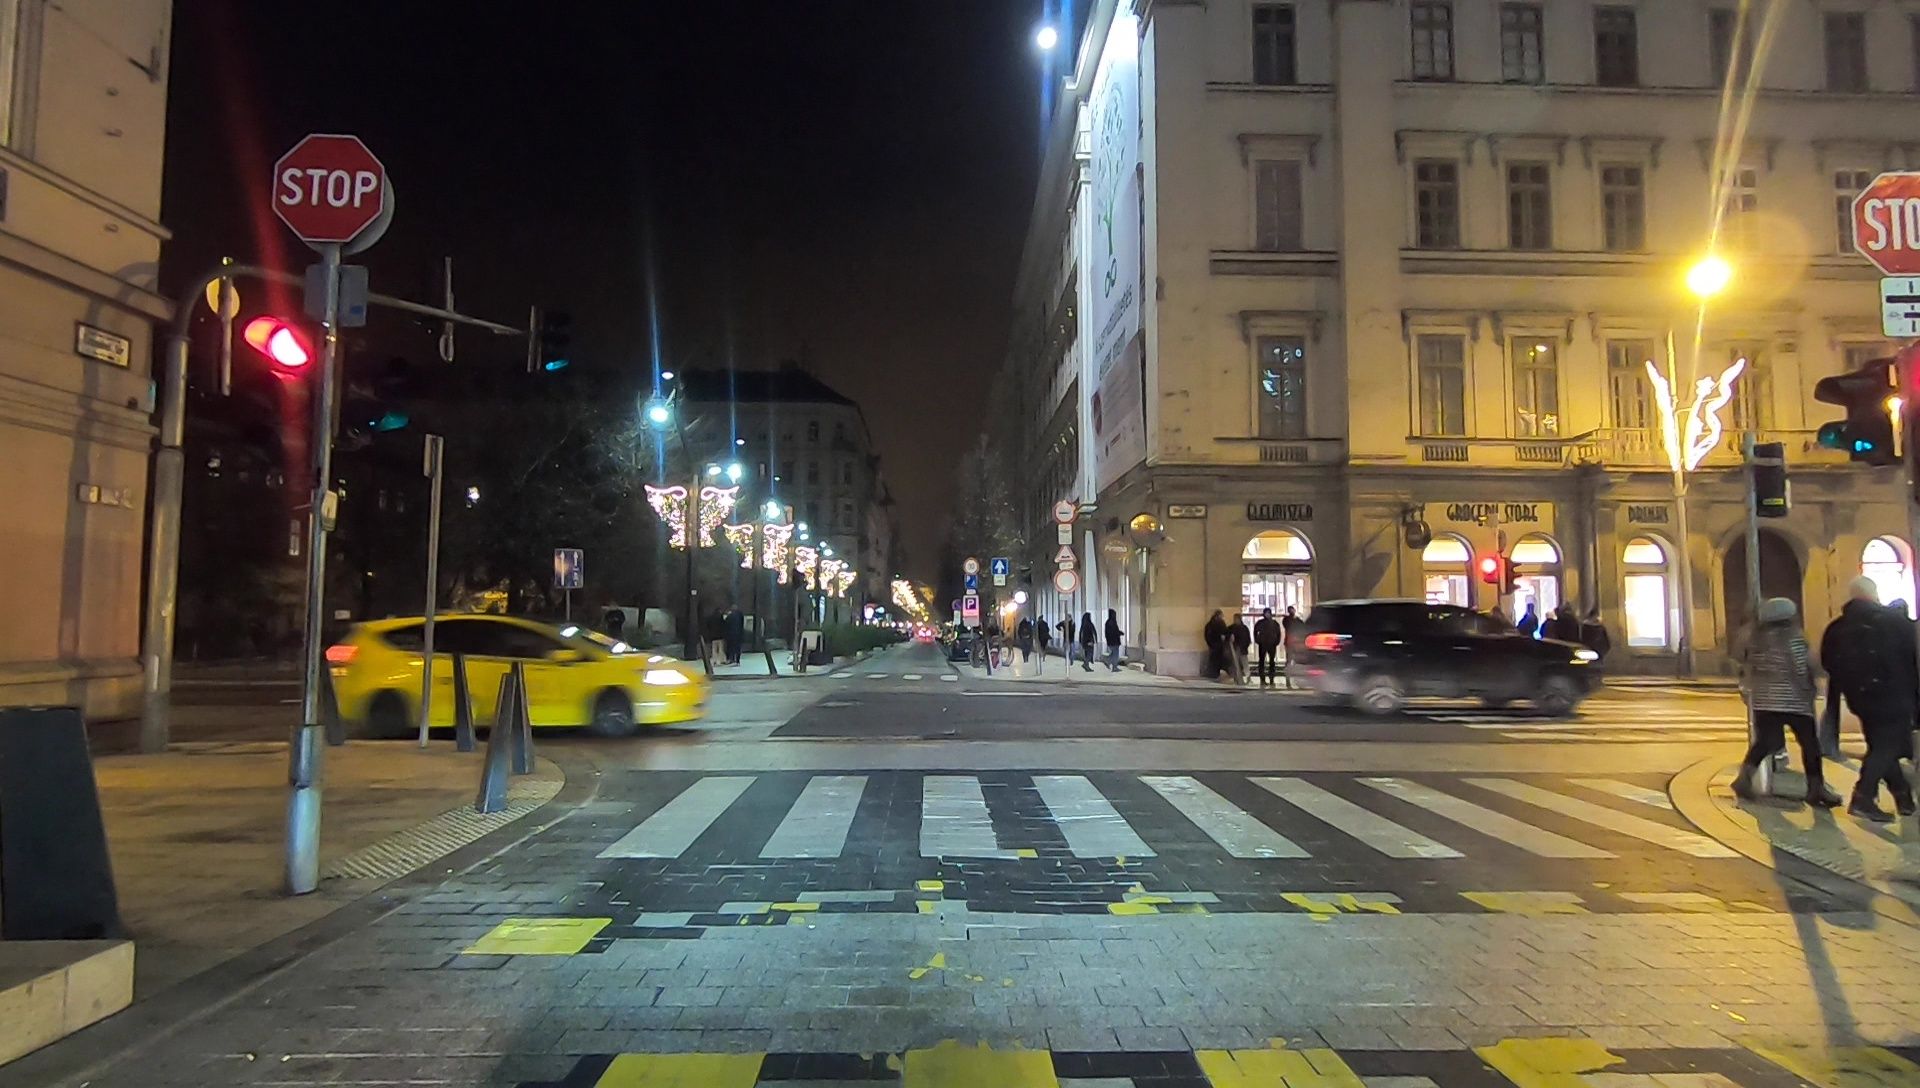person: (1728, 608, 1832, 811), (1828, 580, 1908, 826), (1252, 610, 1280, 689), (1232, 608, 1251, 680), (1204, 615, 1226, 671), (1102, 611, 1125, 667), (1080, 611, 1099, 674)
